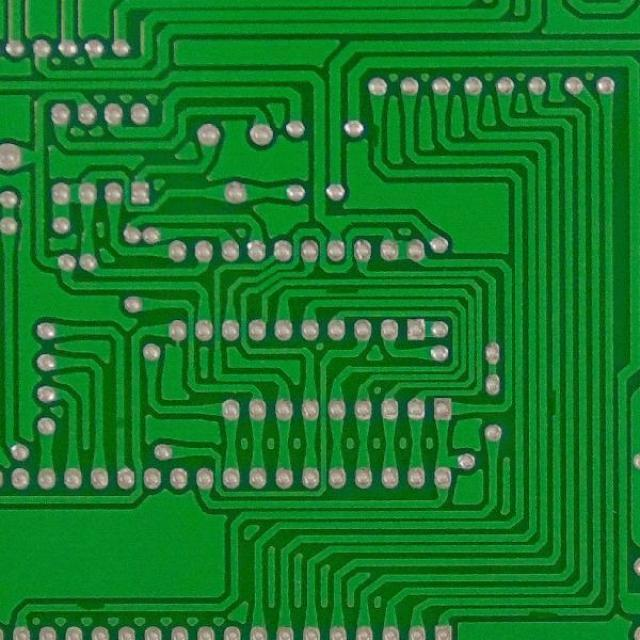MouseBite: (68, 600, 112, 616), (548, 382, 563, 424), (521, 607, 564, 619), (370, 120, 386, 152), (322, 286, 364, 298)
